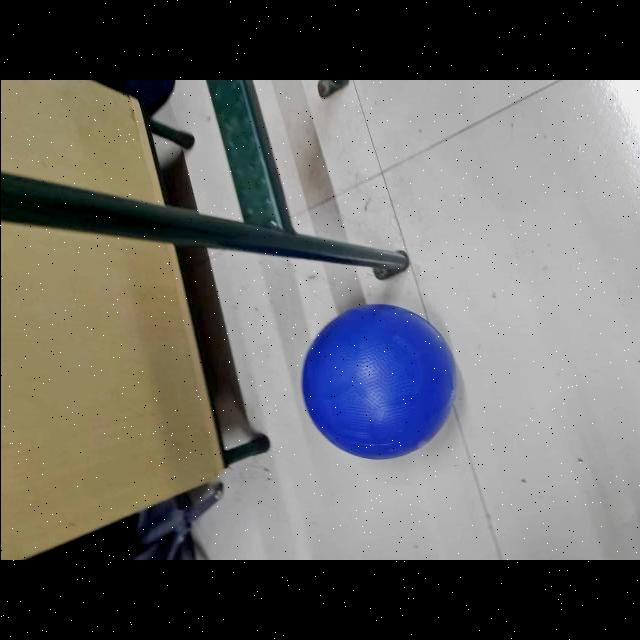B: (293, 292, 465, 468)
